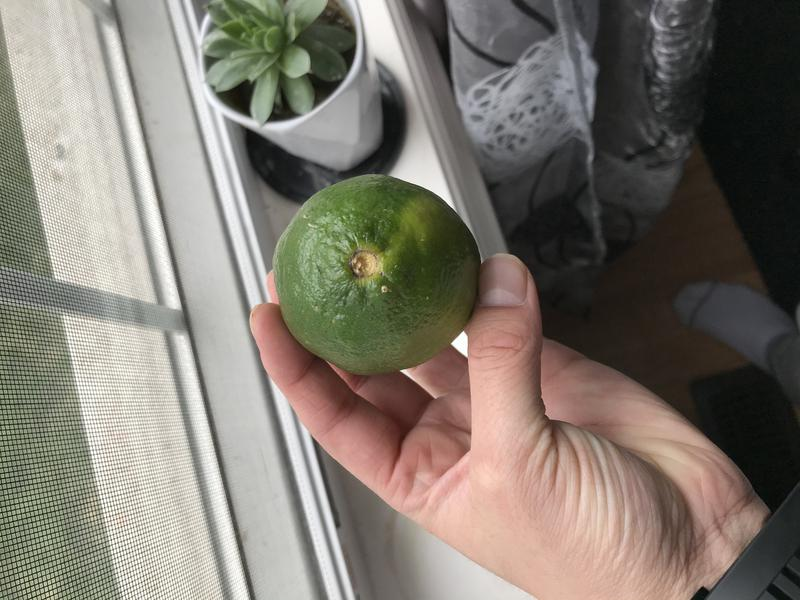lime: (267, 166, 494, 380)
